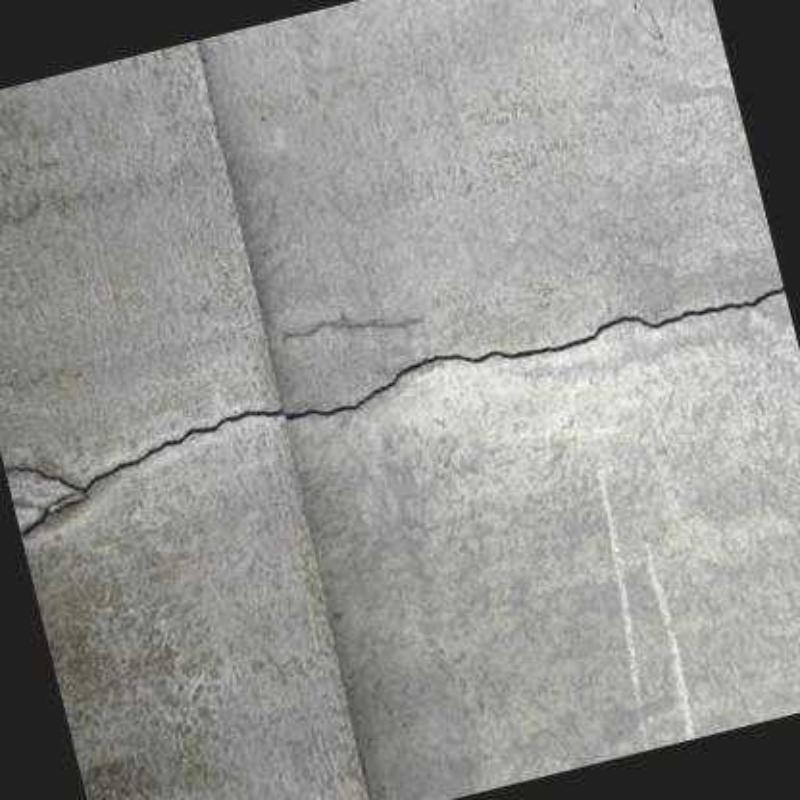pothole: (7, 283, 787, 538)
